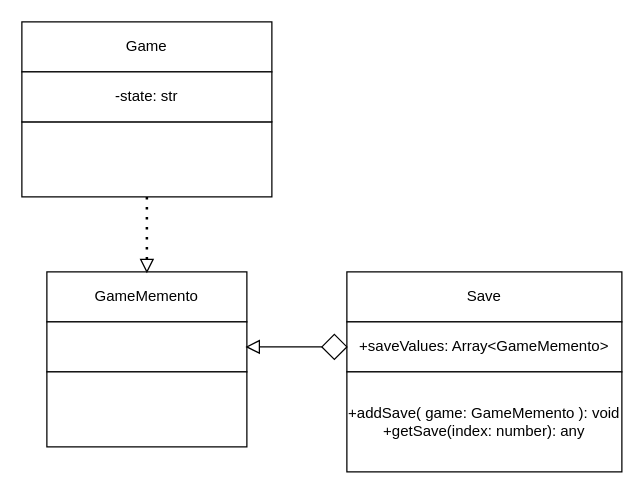
Some shapes in this 644 by 494 pixel diagram are drawn without their labels. The shapes that lost their labels are listed below. From the top down, each one's centre as x and y in pixels, then its label:
At [146,159]: "+save(state): GameMemento +download(GameMemento): void".
At [146,346]: "-constructor( state:str )".
At [146,409]: "+getState(): str +setState( state: str ): void".
